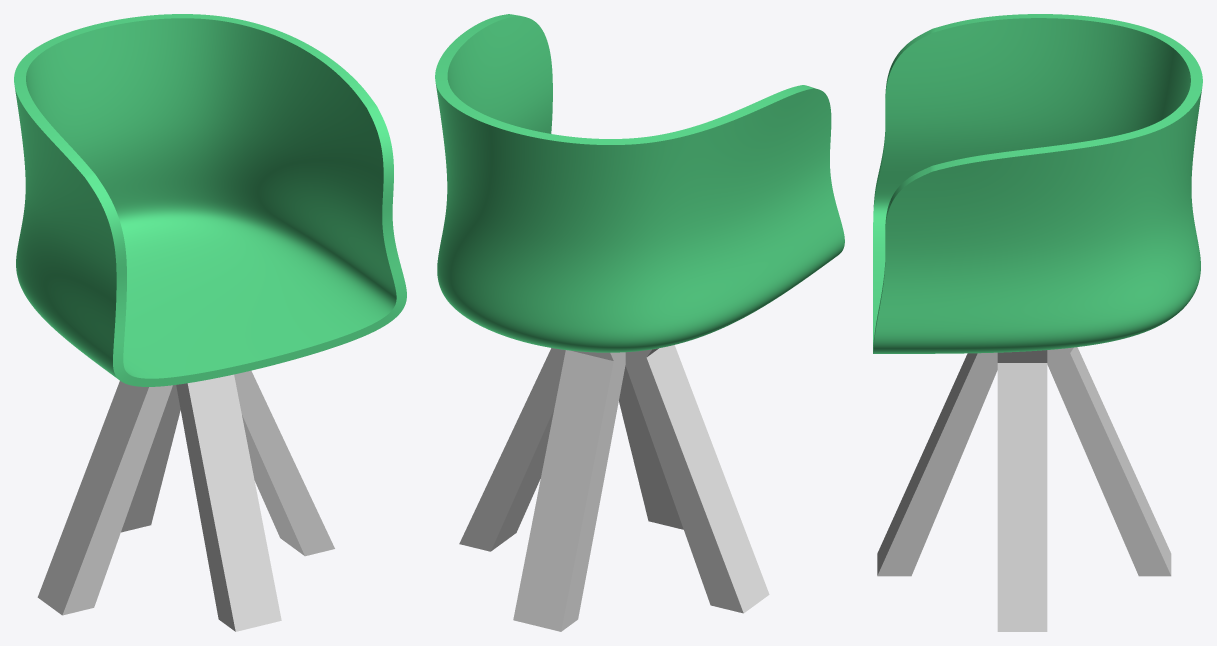
The model's file is chair 1.fbx.
3 renders of one model, left to right at view 1: azimuth 30°, elevation 25°; view 2: azimuth 150°, elevation 25°; view 3: azimuth 270°, elevation 25°, orthographic. The views are drawn at different scales.
Visible parts, largest first — view 1: Cube, Cube.001; view 2: Cube, Cube.001; view 3: Cube, Cube.001.
Part boxes in pixels (x1,y1,x2,y2): Cube: [14, 14, 406, 386]; Cube.001: [37, 370, 334, 631]; Cube: [435, 14, 844, 352]; Cube.001: [459, 345, 769, 631]; Cube: [873, 14, 1202, 353]; Cube.001: [877, 347, 1171, 631].
Size of the model in its own units: 198 by 311 by 192.
